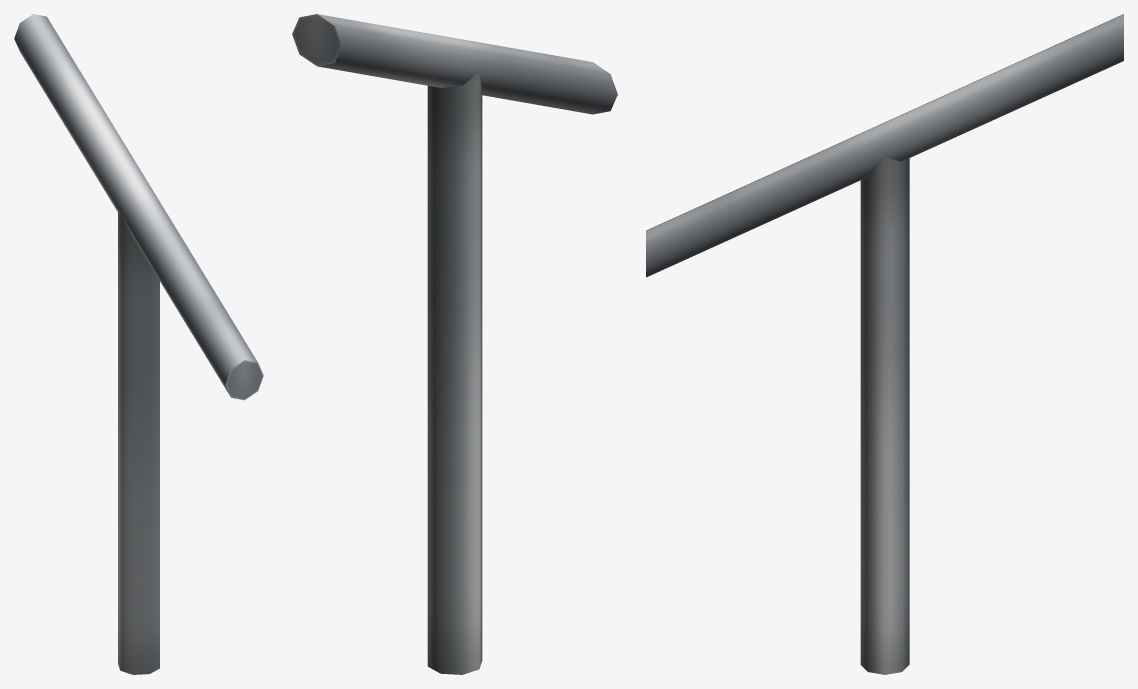
The model's file is set_handrail_stairs_loop.fbx.
The picture shows the model from 3 angles, left to right: view 1: azimuth 30°, elevation 25°; view 2: azimuth 150°, elevation 25°; view 3: azimuth 270°, elevation 25°; orthographic projection. The views are drawn at different scales.
Parts seen in each view (by area): view 1: set_handrail_stairs_loop; view 2: set_handrail_stairs_loop; view 3: set_handrail_stairs_loop.
Part boxes in pixels (box(x1,y1,x2,y2)): set_handrail_stairs_loop: box(14, 14, 263, 674); set_handrail_stairs_loop: box(292, 14, 617, 674); set_handrail_stairs_loop: box(646, 14, 1123, 674).
Bounding box in the file's own units: 6.29 × 90.05 × 60.
